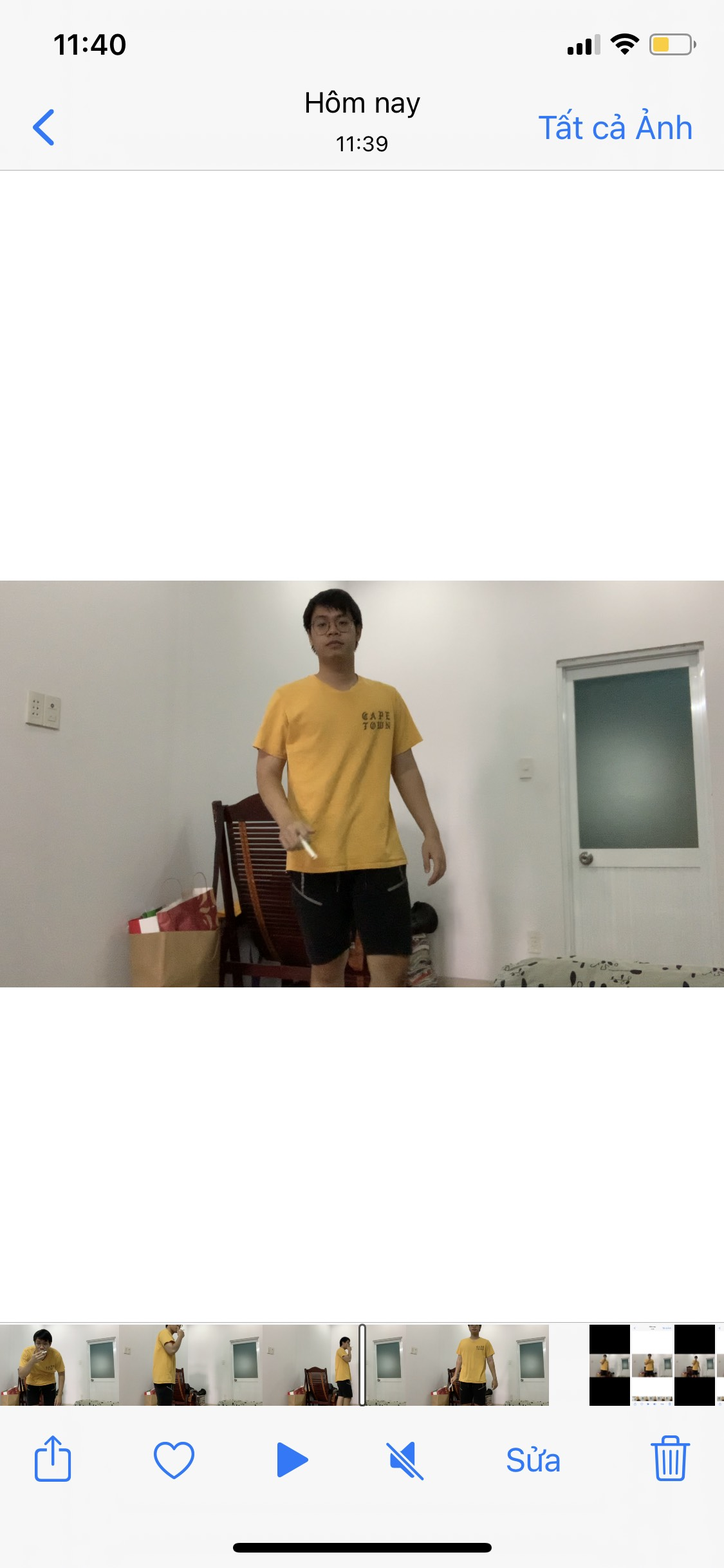cigarette: (301, 839, 320, 863)
person: (254, 581, 447, 985)
